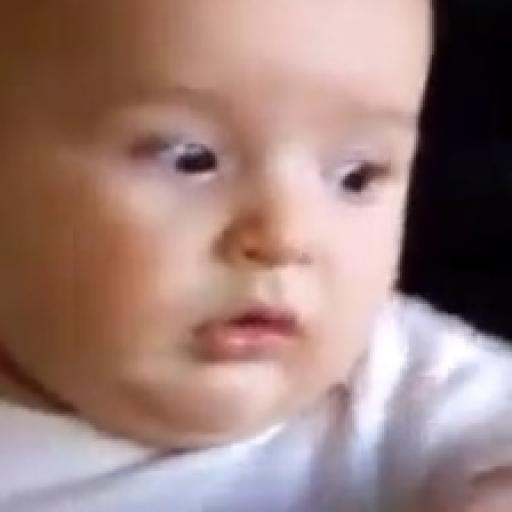Autism: (16, 8, 448, 424)
